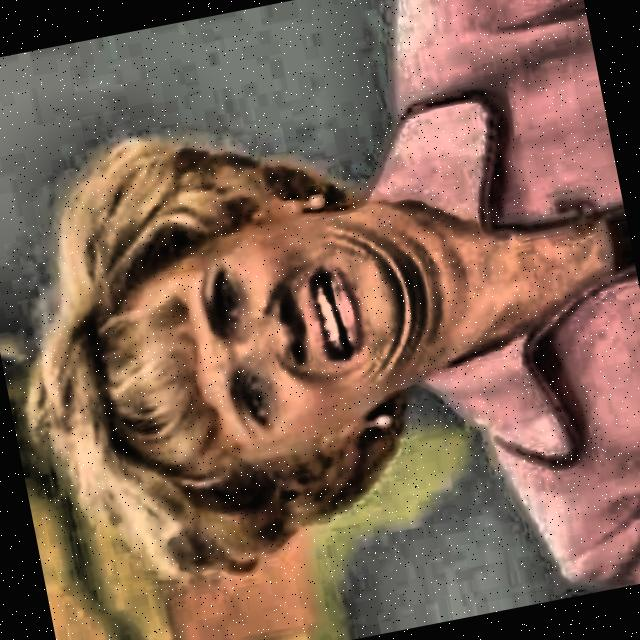disgust: (0, 78, 488, 620)
